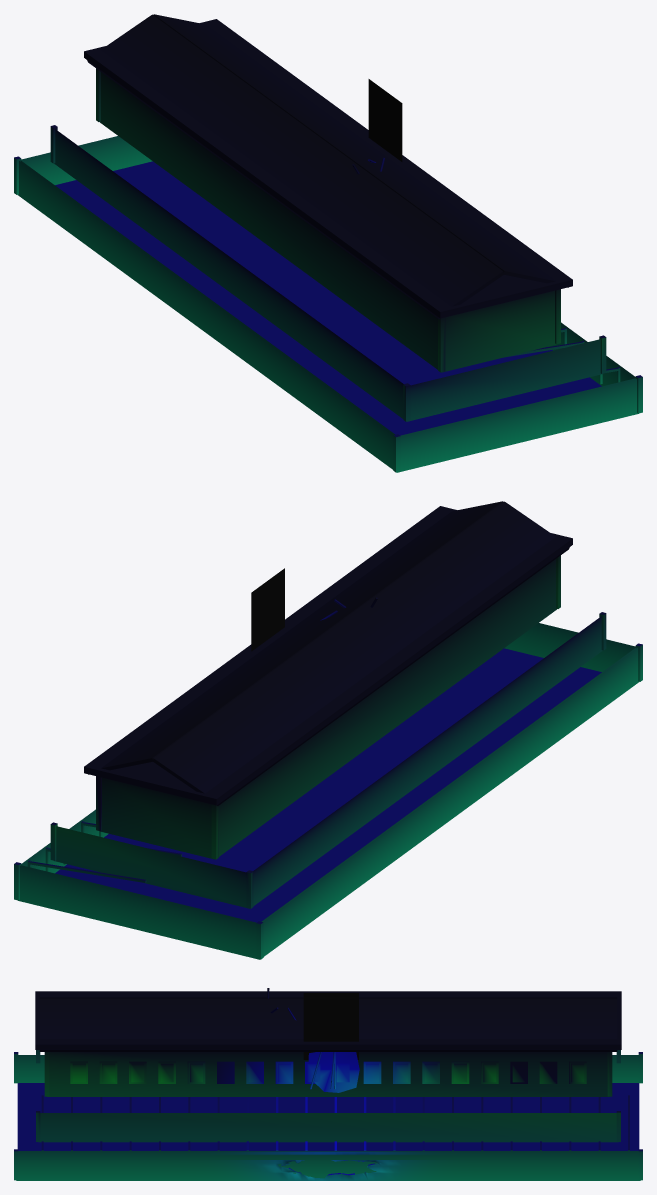
Rendered from l_elitebarracks_damaged.glb.
The picture shows the model from 3 angles, top to bottom: view 1: azimuth 30°, elevation 25°; view 2: azimuth 150°, elevation 25°; view 3: azimuth 270°, elevation 25°; orthographic projection. The views are drawn at different scales.
Visible parts, largest first — view 1: lod0; view 2: lod0; view 3: lod0.
Boxes of the visible parts, x1=… form: lod0: x1=14, y1=14, x2=642, y2=472; lod0: x1=14, y1=501, x2=642, y2=959; lod0: x1=14, y1=988, x2=642, y2=1180.
Size of what is drawn, in the model's own units: 16 by 12.26 by 42.9.
